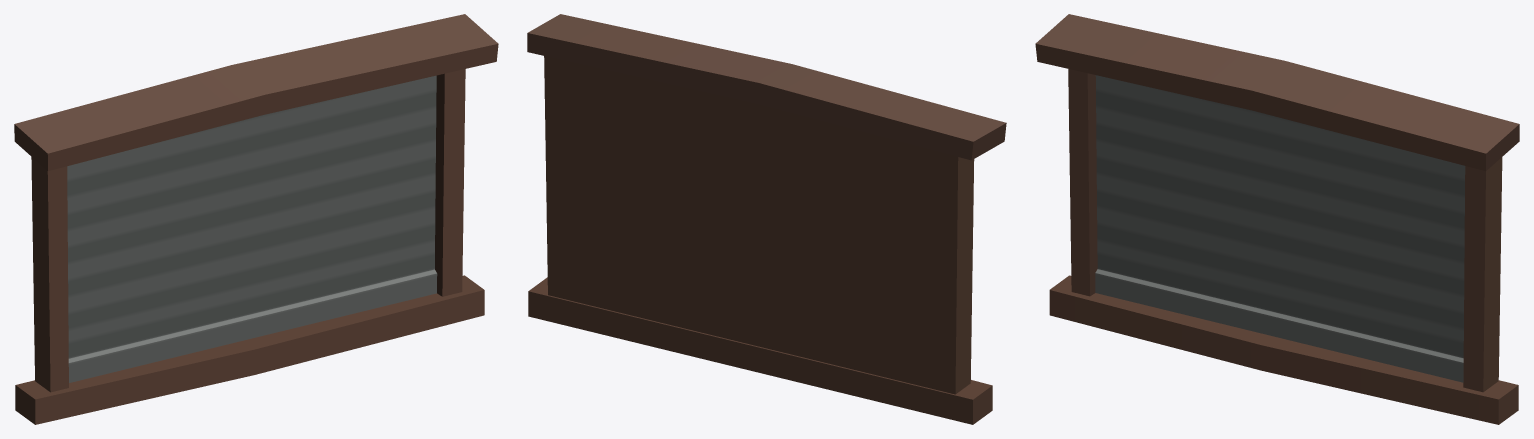
File: Door_E05.fbx
The picture shows the model from 3 angles, left to right: view 1: azimuth 30°, elevation 25°; view 2: azimuth 150°, elevation 25°; view 3: azimuth 330°, elevation 25°; orthographic projection.
Visible parts, largest first — view 1: Door_E05; view 2: Door_E05; view 3: Door_E05.
Part boxes in pixels (x1,y1,x2,y2): Door_E05: [14, 14, 498, 424]; Door_E05: [527, 14, 1006, 424]; Door_E05: [1035, 14, 1519, 424].
Size of the model in its own units: 554 by 344 by 73.61.
